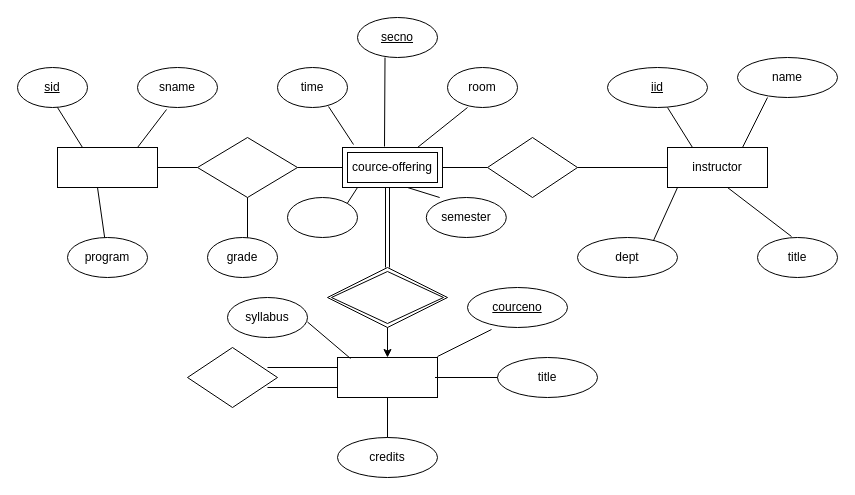
Some shapes in this 855 by 495 pixel diagram are drawn without their labels. The centre of each missing label's shape, as x and y in pixels:
cource: [387,377]
enrolls: [247,167]
is offered: [387,297]
requires: [232,377]
student: [107,167]
teaches: [532,167]
year: [322,217]
